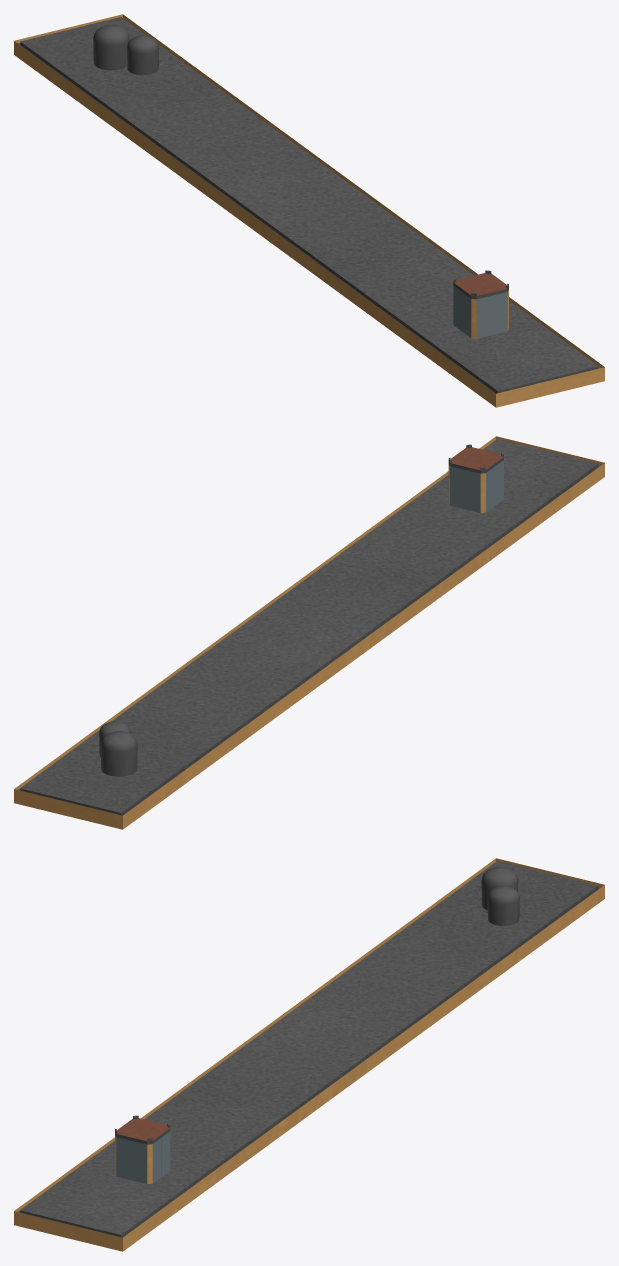
File: roofTop 1.fbx
3 renders of one model, top to bottom at view 1: azimuth 30°, elevation 25°; view 2: azimuth 150°, elevation 25°; view 3: azimuth 330°, elevation 25°, orthographic.
Visible parts, largest first — view 1: pCube116, pCube115, pCylinder3, pCylinder1; view 2: pCube116, pCube115, pCylinder3; view 3: pCube116, pCube115, pCylinder1, pCylinder3.
Boxes of the visible parts, x1,y1,x2,y2 form: pCube116: (14, 14, 604, 407); pCube115: (453, 270, 508, 338); pCylinder3: (93, 24, 129, 70); pCylinder1: (127, 35, 159, 75); pCube116: (14, 436, 604, 829); pCube115: (448, 444, 503, 513); pCylinder3: (100, 731, 137, 776); pCube116: (14, 858, 604, 1251); pCube115: (115, 1115, 170, 1183); pCylinder1: (487, 886, 519, 925); pCylinder3: (481, 867, 518, 910).
Bounding box in the file's own units: 810 × 421 × 6212.
Materials: 1 (1 with a texture image).
